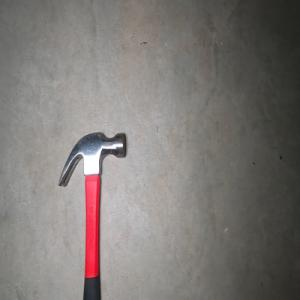Hammer: (57, 131, 127, 300)
